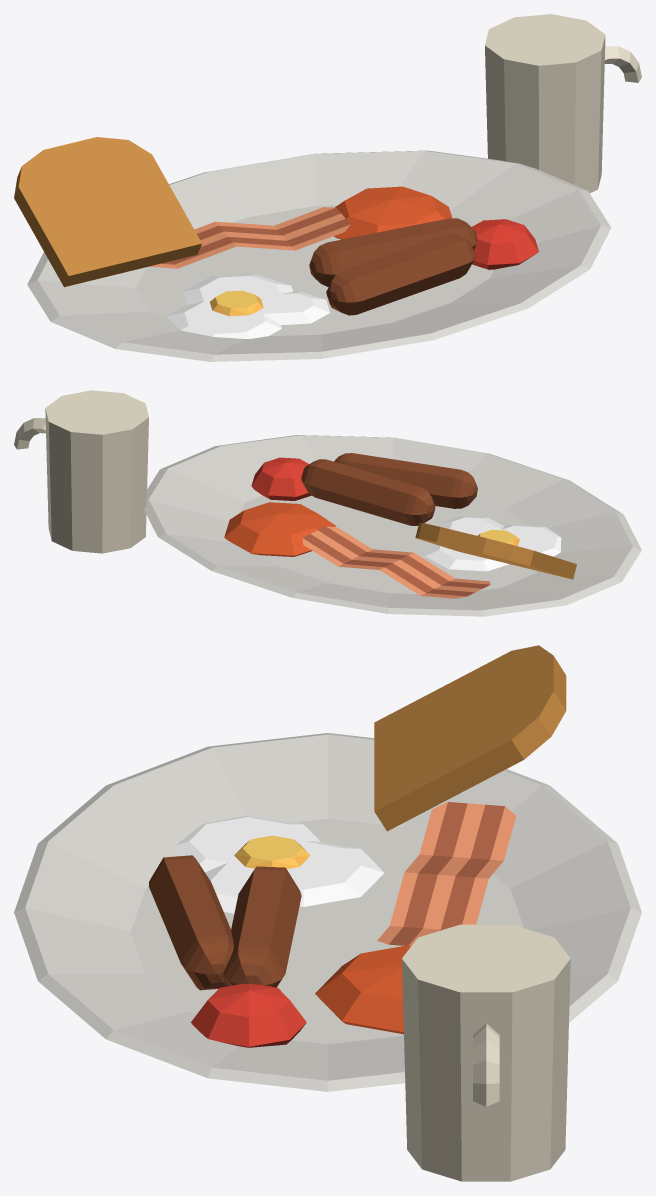
The model's file is fry-up.glb.
The picture shows the model from 3 angles, top to bottom: view 1: azimuth 30°, elevation 25°; view 2: azimuth 150°, elevation 25°; view 3: azimuth 270°, elevation 25°; orthographic projection. The views are drawn at different scales.
Parts seen in each view (by area): view 1: fry_up; view 2: fry_up; view 3: fry_up.
Boxes of the visible parts, bbox=[...] form: fry_up: bbox=[14, 14, 641, 361]; fry_up: bbox=[14, 390, 641, 616]; fry_up: bbox=[14, 645, 641, 1181].
Bounding box in the file's own units: 0.389 × 0.08 × 0.238.
